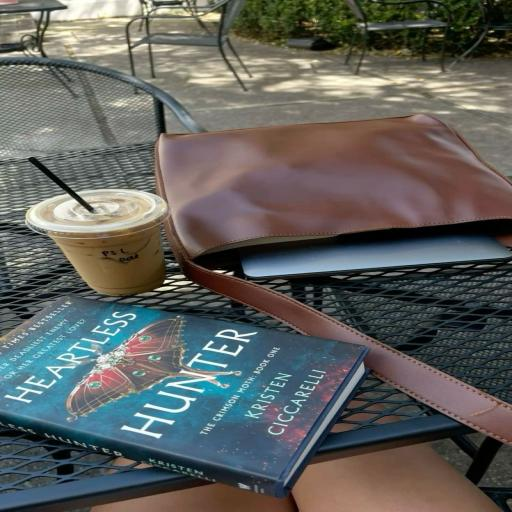bed: (0, 296, 367, 497)
bus: (0, 58, 205, 156), (126, 0, 251, 90), (345, 0, 451, 73), (448, 0, 511, 70), (140, 0, 196, 16)
door: (156, 115, 511, 444)
stroller: (0, 158, 288, 333), (0, 0, 67, 57)
